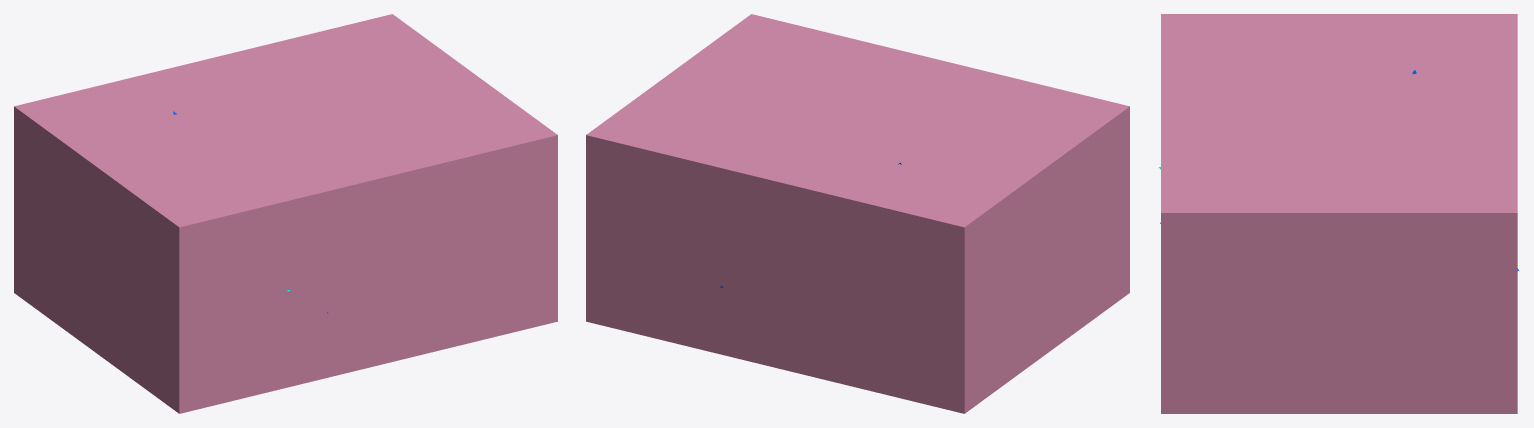
The model's file is tree_beech_bush_d.dae.
3 views of the same model, side by side, from view 1: azimuth 30°, elevation 25°; view 2: azimuth 150°, elevation 25°; view 3: azimuth 270°, elevation 25° (orthographic). The views are drawn at different scales.
Parts seen in each view (by area): view 1: Untitled; view 2: Untitled; view 3: Untitled.
Boxes of the visible parts, left/top/right/bottom form: Untitled: left=14, top=14, right=557, bottom=413; Untitled: left=586, top=14, right=1129, bottom=413; Untitled: left=1161, top=14, right=1517, bottom=413.
Size of the model in its own units: 8.86 by 6.8 by 4.47.
